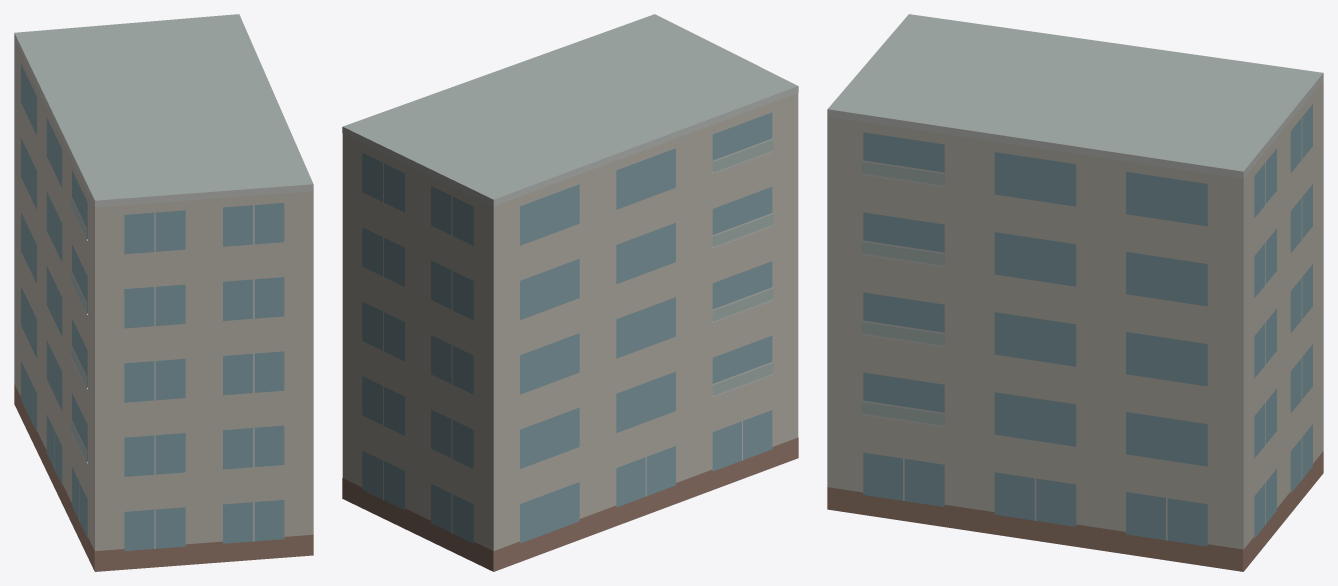
Rendered from survey-upis-32890035.glb.
3 views of the same model, side by side, from view 1: azimuth 30°, elevation 25°; view 2: azimuth 150°, elevation 25°; view 3: azimuth 270°, elevation 25° (orthographic). The views are drawn at different scales.
Parts seen in each view (by area): view 1: survey-upis-32890035.tmp; view 2: survey-upis-32890035.tmp; view 3: survey-upis-32890035.tmp.
Part boxes in pixels (x1,y1,x2,y2): survey-upis-32890035.tmp: [14, 14, 313, 571]; survey-upis-32890035.tmp: [342, 14, 798, 571]; survey-upis-32890035.tmp: [827, 14, 1323, 571].
Bounding box in the file's own units: 11.41 × 13.5 × 15.17.
